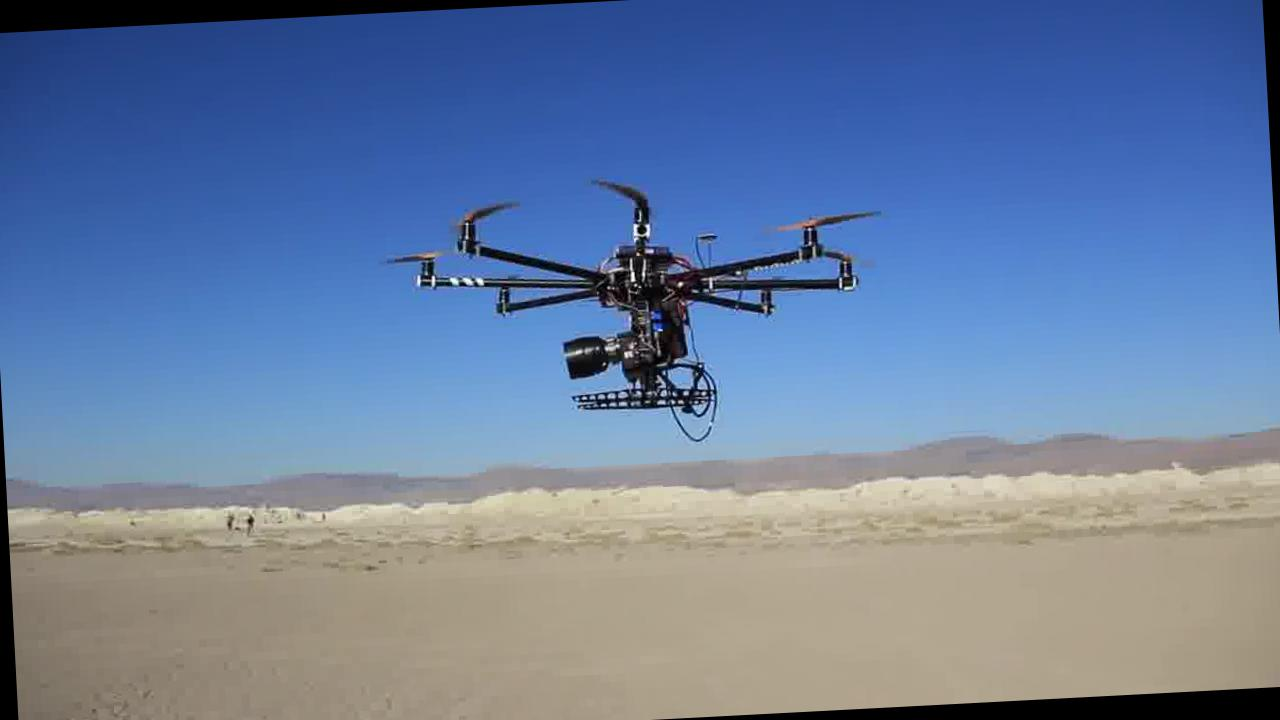drone: (398, 166, 876, 430)
